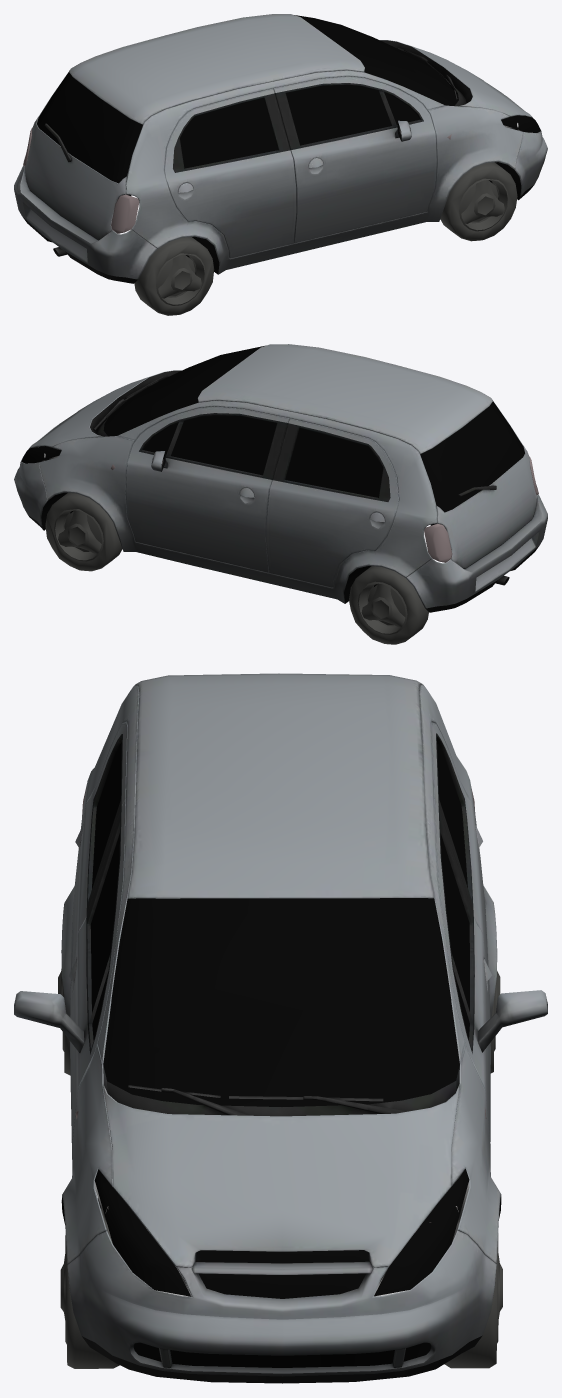
Rendered from pc-compact-silver.lod0.glb.
3 views of the same model, one above another, from view 1: azimuth 30°, elevation 25°; view 2: azimuth 150°, elevation 25°; view 3: azimuth 270°, elevation 25° (orthographic). The views are drawn at different scales.
Parts seen in each view (by area): view 1: Compact Body_Body_0, Wheel_C_Wheel_0; view 2: Compact Body_Body_0, Wheel_C_Wheel_0; view 3: Compact Body_Body_0, Wheel_C_Wheel_0.
Part boxes in pixels (box(x1,y1,x2,y2)): Compact Body_Body_0: box(14, 14, 547, 283); Wheel_C_Wheel_0: box(23, 15, 540, 315); Compact Body_Body_0: box(14, 344, 547, 612); Wheel_C_Wheel_0: box(21, 345, 538, 644); Compact Body_Body_0: box(14, 673, 547, 1383); Wheel_C_Wheel_0: box(58, 743, 502, 1368).
Size of the model in its own units: 3.26 by 1.32 by 1.61.
2 materials, 1 textured.
